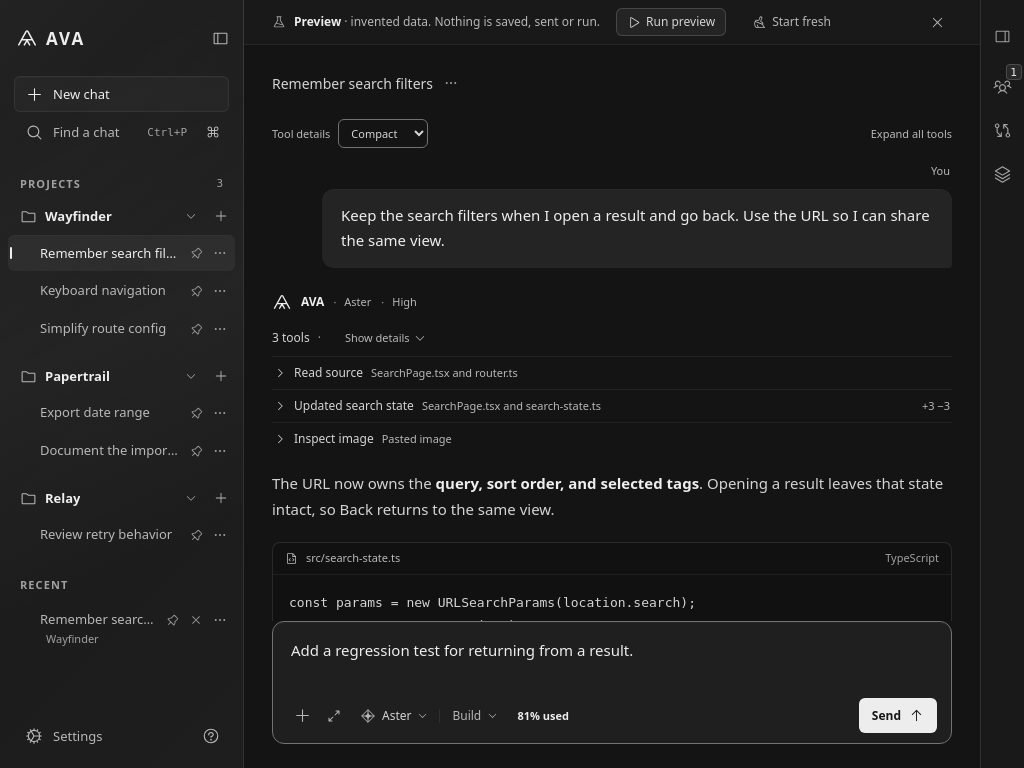
Test: monochrome sidebar-only UI preview › states the mock boundary once, in a dismissible banner that holds Run preview above the title, never above the composer
Expected: the element "Preview" shows "Preview · invented data. Nothing is saved, sent or run.", [244, 0, 980, 45]
Expected: the text "Preview · invented data. Nothing is saved, sent or run." is shown once, [294, 12, 600, 32]
Click the button named "Hide preview banner": (937, 22) [922, 7, 952, 37]
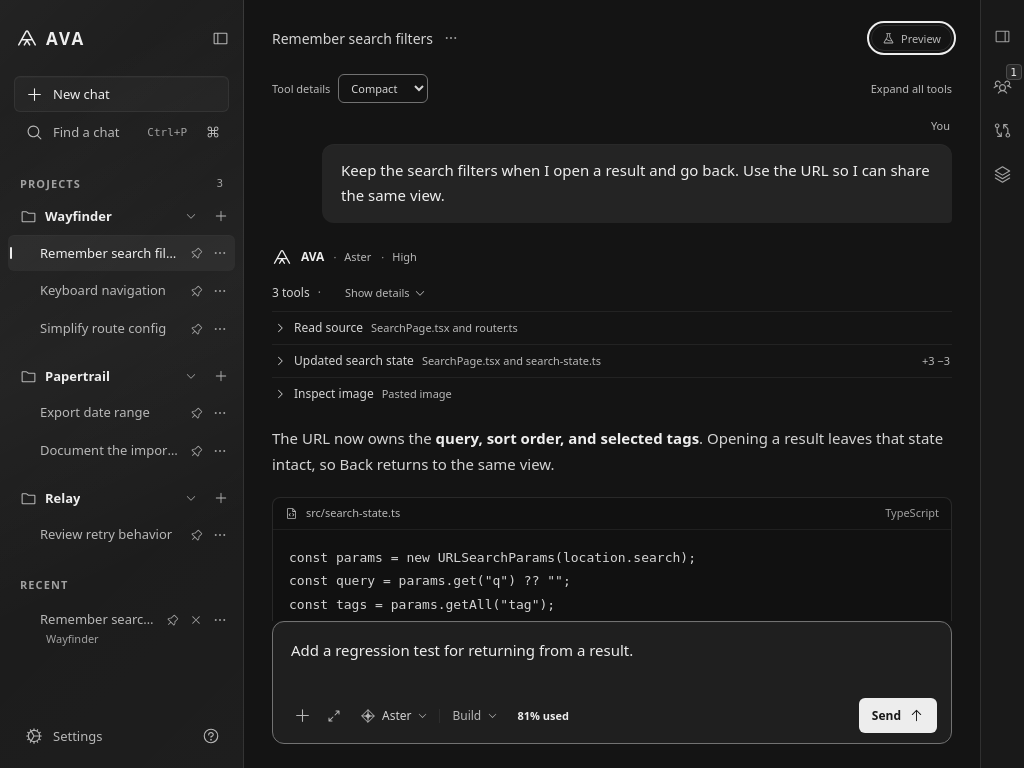
Result: the button "Run preview" is gone
Press Enter
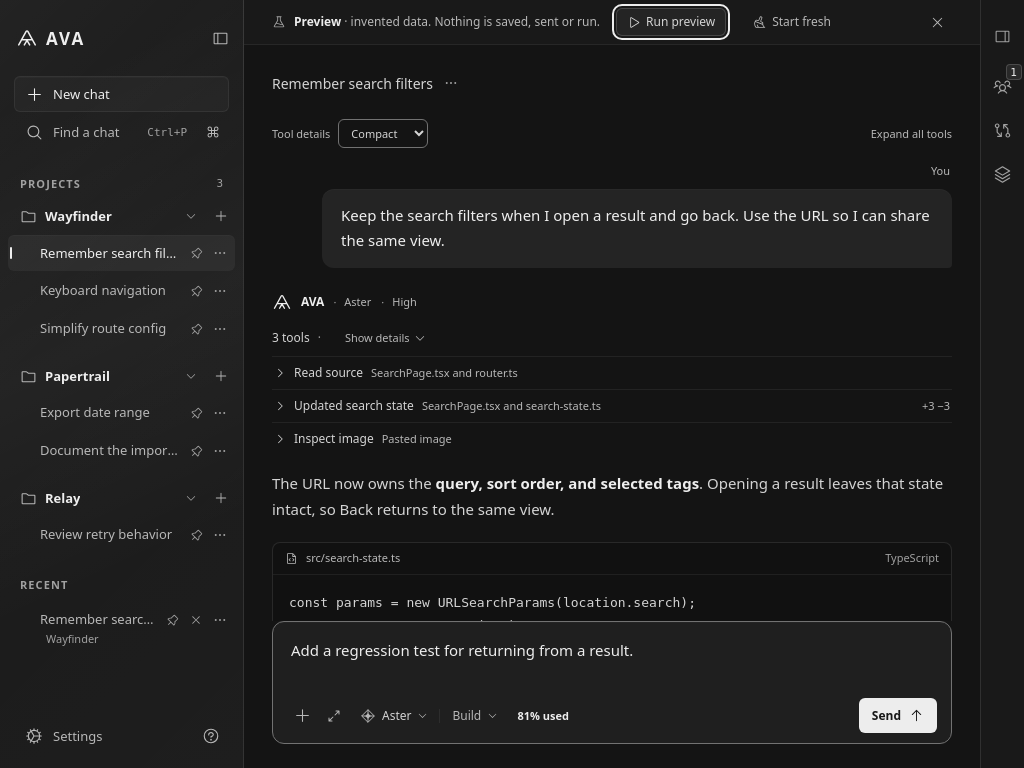
Result: the element "Preview" is shown at [244, 0, 980, 45]
